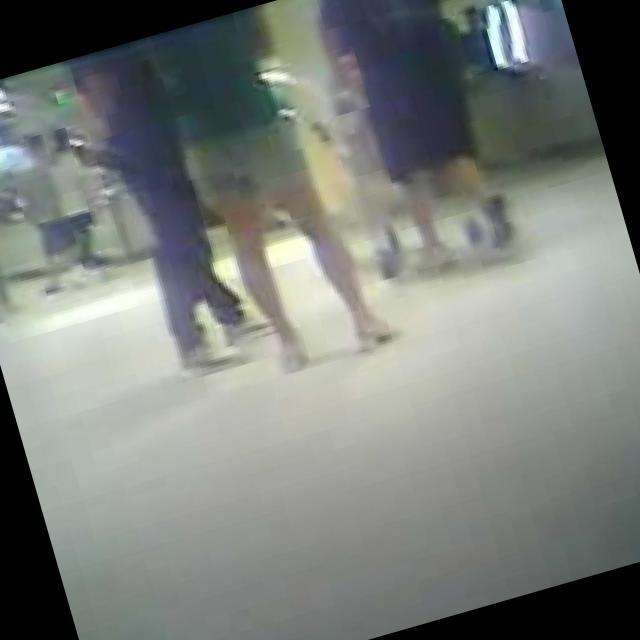person: (144, 0, 397, 391), (66, 26, 276, 383), (324, 0, 525, 277), (0, 124, 91, 298), (38, 118, 122, 280), (0, 154, 26, 322)
